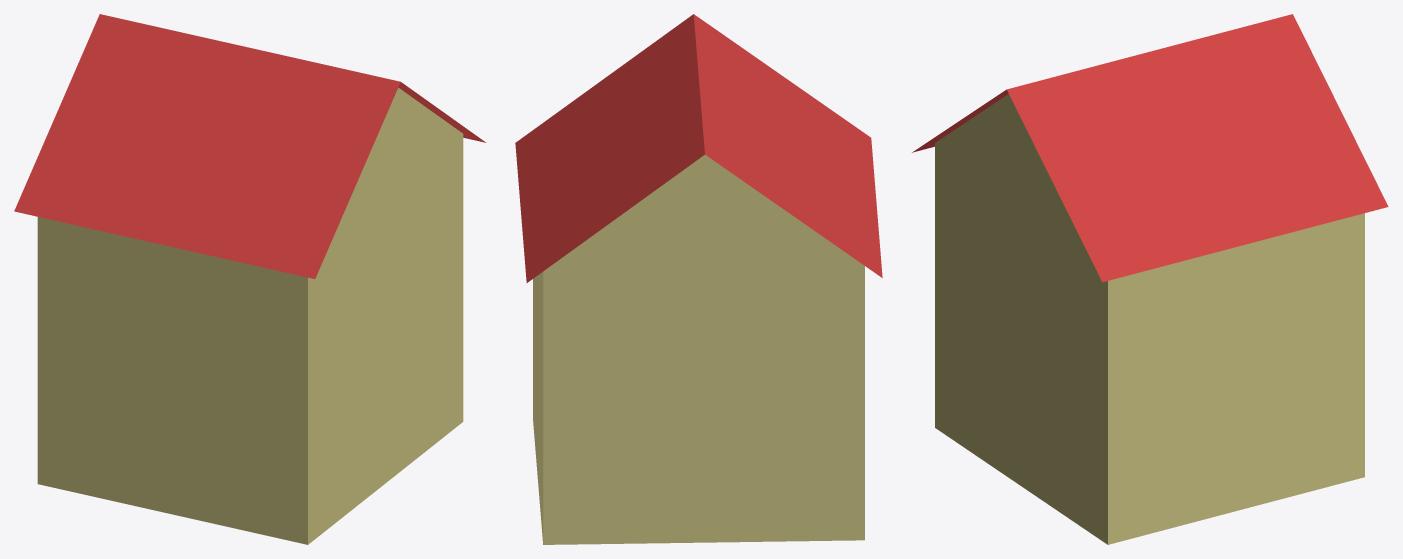
The picture shows the model from 3 angles, left to right: view 1: azimuth 30°, elevation 25°; view 2: azimuth 150°, elevation 25°; view 3: azimuth 270°, elevation 25°; orthographic projection. The views are drawn at different scales.
Bounding box in the file's own units: 14.04 × 13.82 × 12.81.
